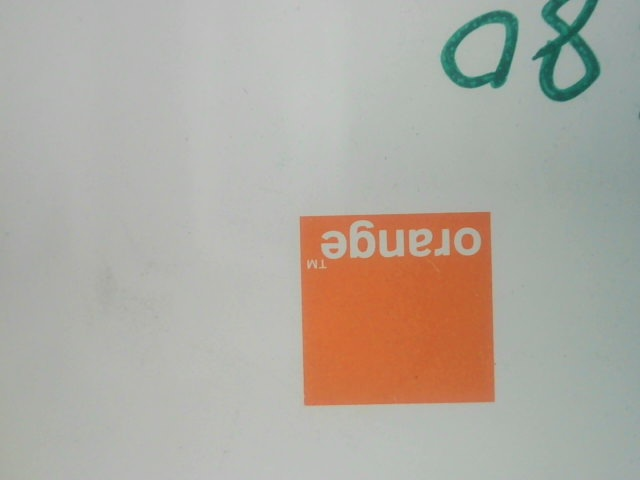AR_Orange: (288, 207, 510, 414)
